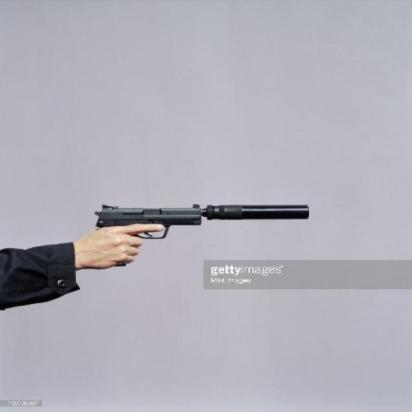Gun: (93, 201, 310, 261)
